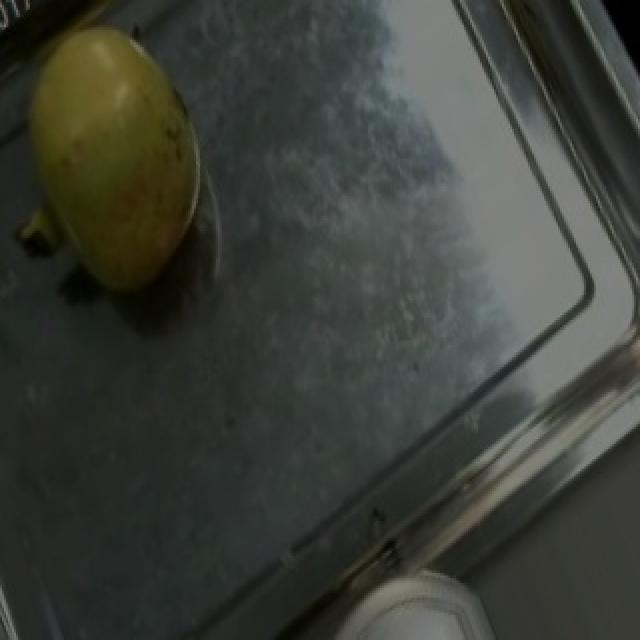fruit: (0, 0, 232, 273), (318, 550, 528, 640)
